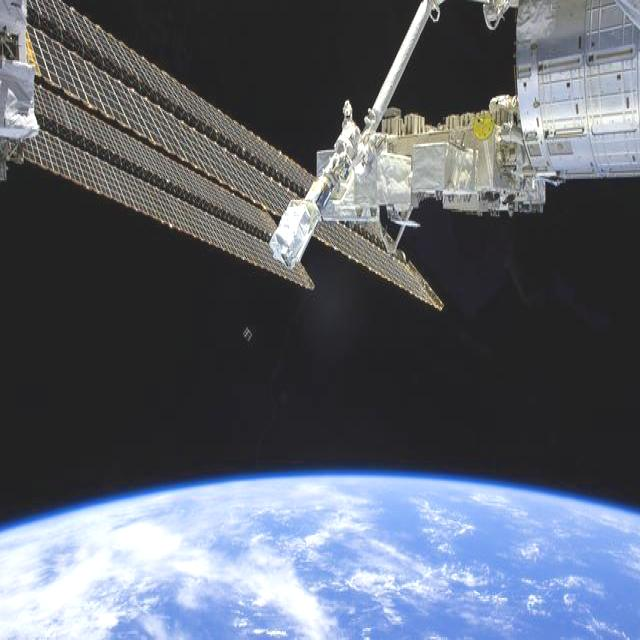medium_debris: (0, 0, 640, 307), (242, 327, 254, 343)
